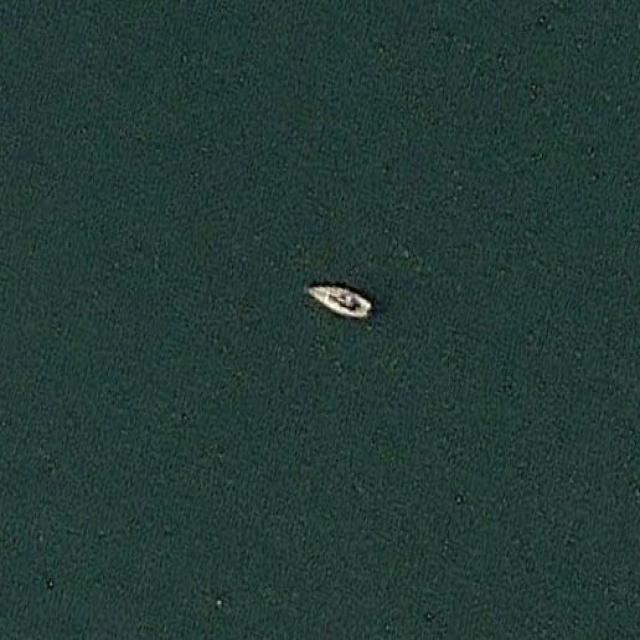ship: (300, 274, 374, 322)
